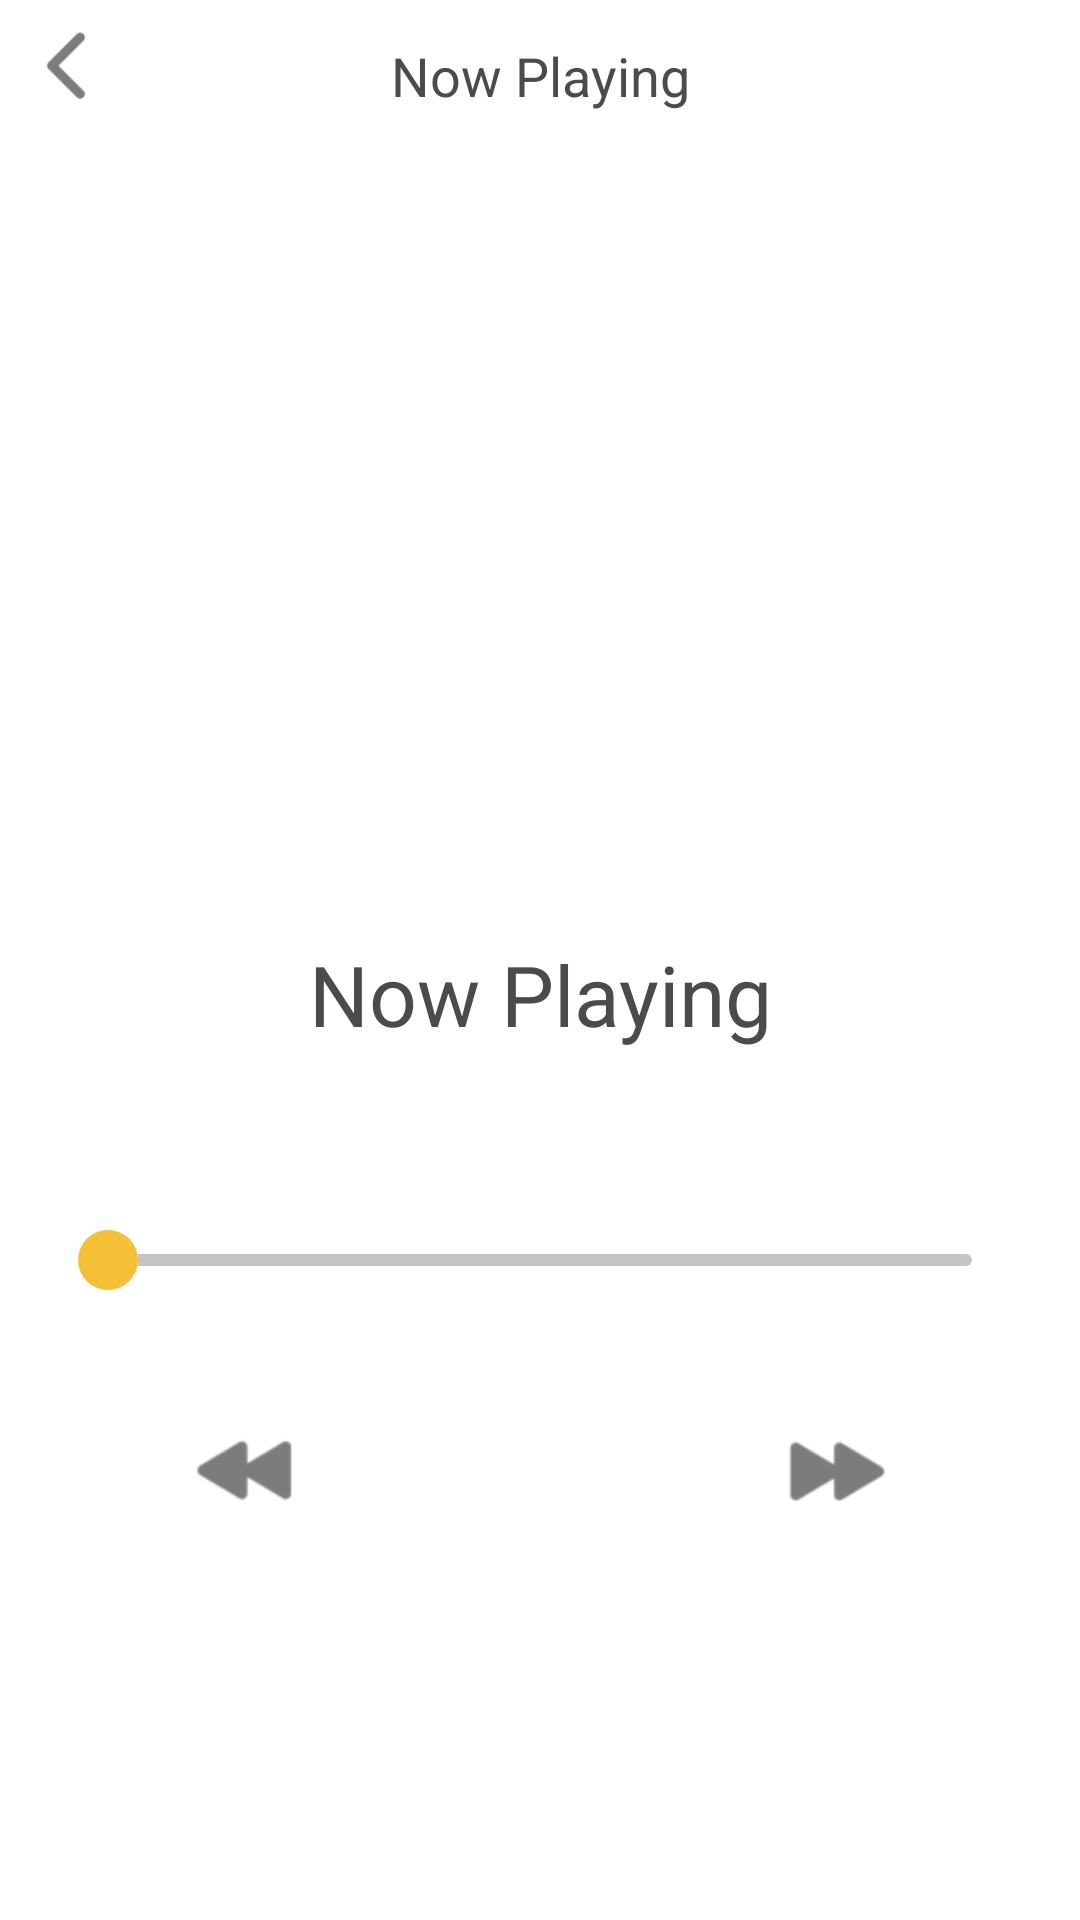

Point at icon controls on the screen. Image size 1080px×1920px, points as [x,y].
arrow left: [66,65]
next: [837,1471]
previous: [244,1470]
